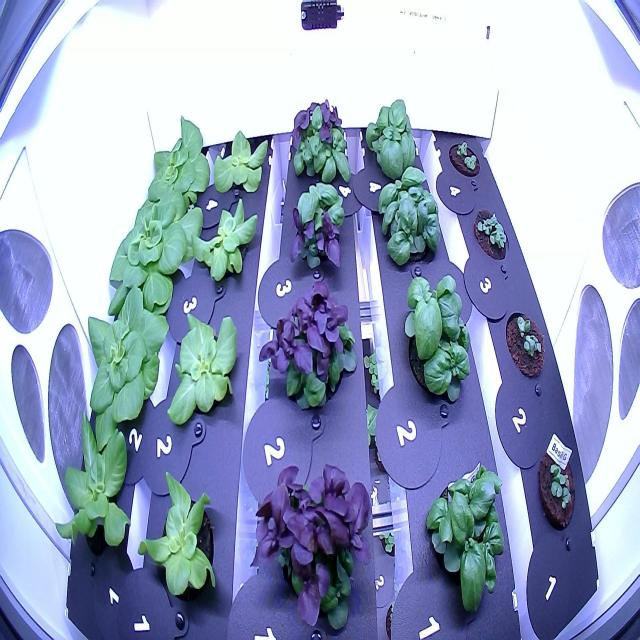germination: (531, 438, 577, 534), (499, 302, 548, 382), (468, 203, 509, 266), (445, 131, 483, 184)
young: (74, 276, 172, 453), (136, 462, 230, 616), (102, 195, 208, 331), (53, 409, 144, 565), (164, 295, 246, 441), (134, 102, 215, 228), (184, 191, 263, 300), (206, 119, 274, 209)
